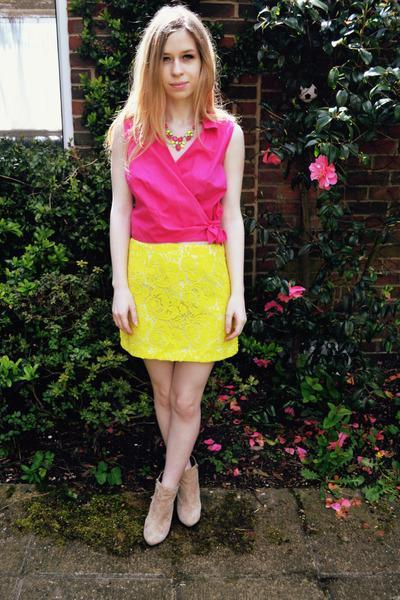shirt: (123, 108, 242, 245)
shoe: (144, 492, 200, 543)
skirt: (120, 240, 238, 361)
